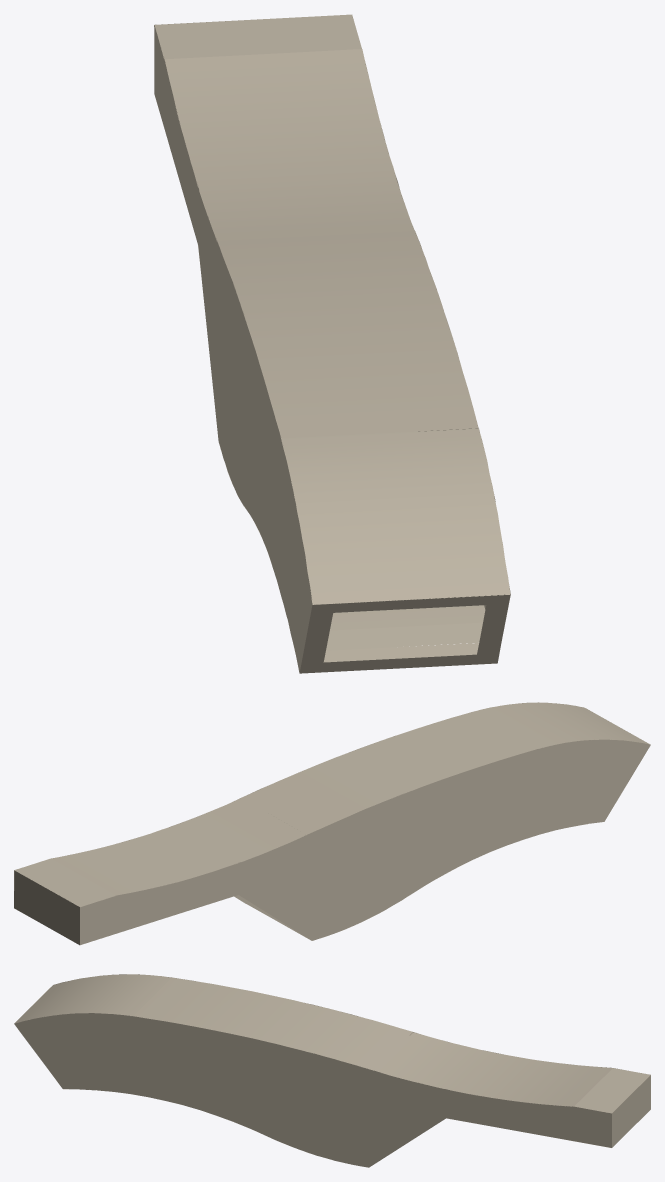
File: original-10.obj
The picture shows the model from 3 angles, top to bottom: view 1: azimuth 30°, elevation 25°; view 2: azimuth 150°, elevation 25°; view 3: azimuth 270°, elevation 25°; orthographic projection. The views are drawn at different scales.
Visible parts, largest first — view 1: #ID199; view 2: #ID199; view 3: #ID199.
Boxes of the visible parts, box(x1,y1,x2,y2) form: #ID199: box(154, 14, 510, 673); #ID199: box(14, 702, 650, 945); #ID199: box(14, 974, 650, 1167).
Bounding box in the file's own units: 0.1808 × 0.0635 × 0.3331.
